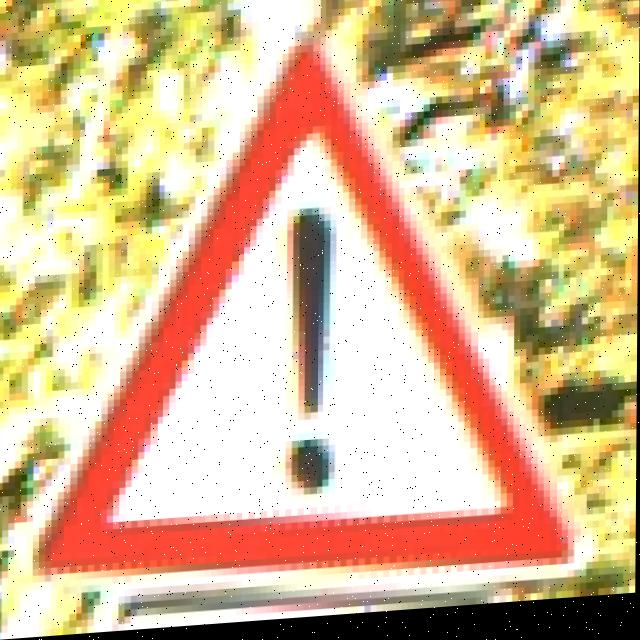warning: (35, 43, 596, 624)
